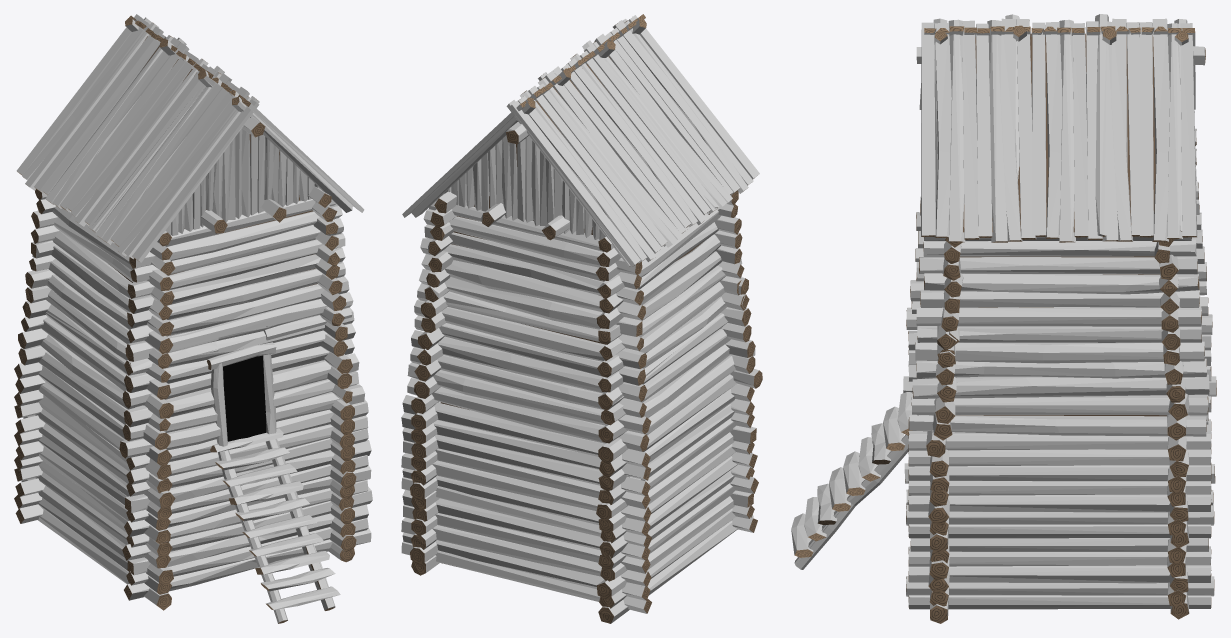
The model's file is FrontierKeep1.fbx.
3 views of the same model, side by side, from view 1: azimuth 30°, elevation 25°; view 2: azimuth 150°, elevation 25°; view 3: azimuth 270°, elevation 25° (orthographic). The views are drawn at different scales.
Parts seen in each view (by area): view 1: Log.001, Step_0, Step_4, Step_1, Step_2, Door.001, Stair.001, Step_3; view 2: Log.001, Step_0, Step_4, Step_1, Step_2, Step_3; view 3: Log.001, Step_0, Step_4, Step_1, Step_2, Stair.001, Plaster.001, Step_3.
Part boxes in pixels (bbox=[...]): Log.001: bbox=[14, 17, 372, 610]; Step_0: bbox=[14, 345, 371, 623]; Step_4: bbox=[16, 14, 361, 259]; Step_1: bbox=[24, 240, 356, 423]; Step_2: bbox=[33, 186, 343, 313]; Door.001: bbox=[223, 355, 266, 441]; Stair.001: bbox=[215, 434, 338, 623]; Step_3: bbox=[91, 17, 258, 228]; Log.001: bbox=[402, 16, 762, 623]; Step_0: bbox=[401, 348, 762, 623]; Step_4: bbox=[402, 14, 759, 266]; Step_1: bbox=[407, 251, 752, 443]; Step_2: bbox=[420, 191, 741, 328]; Step_3: bbox=[506, 19, 716, 266]; Log.001: bbox=[903, 14, 1216, 622]; Step_0: bbox=[791, 307, 1216, 623]; Step_4: bbox=[922, 19, 1197, 242]; Step_1: bbox=[910, 196, 1209, 423]; Step_2: bbox=[919, 129, 1199, 299]; Stair.001: bbox=[791, 397, 918, 569]; Plaster.001: bbox=[955, 33, 1166, 416]; Step_3: bbox=[916, 14, 1205, 235].
Size of what is drawn, in the model's own units: 981 by 1388 by 735.
